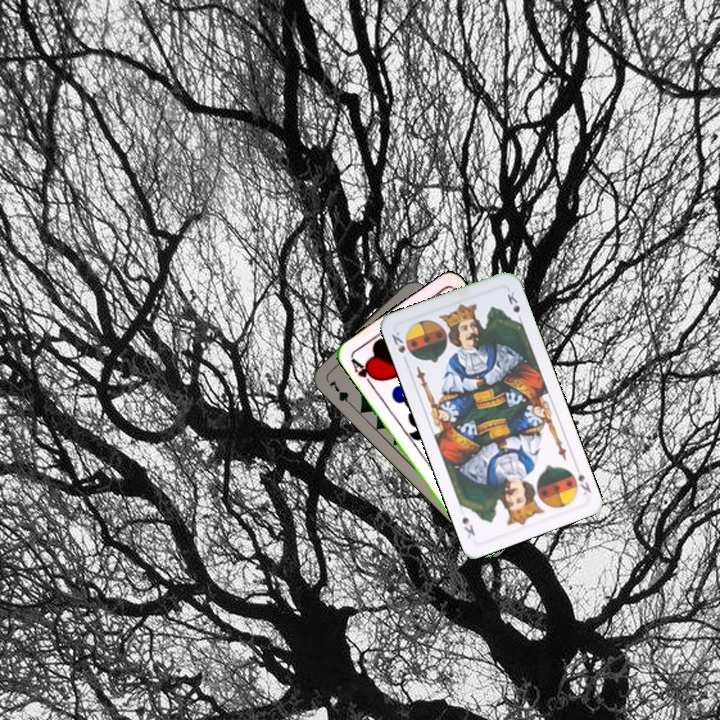G7: (325, 376, 357, 411)
HA: (346, 354, 380, 389)
SK: (571, 461, 594, 498), (387, 327, 408, 356)
